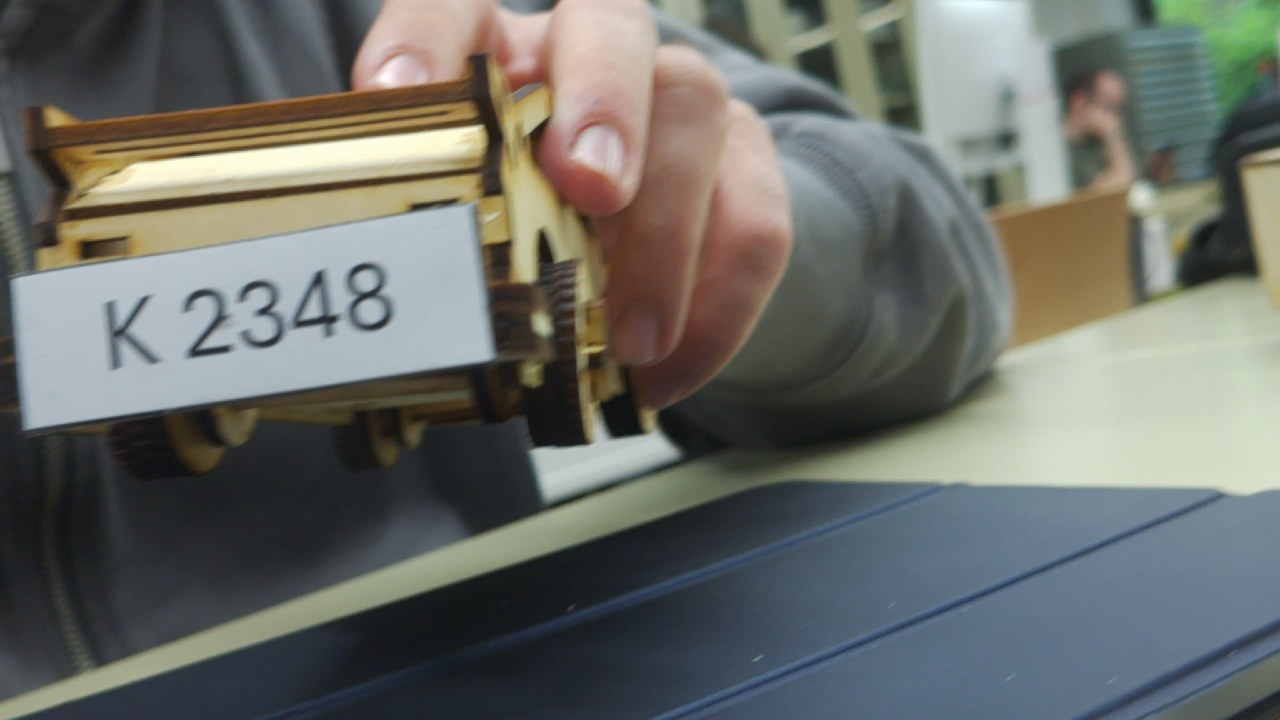license_plate: (4, 198, 499, 441)
